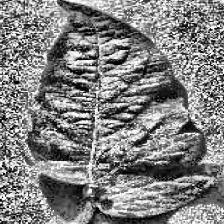spider mites: (23, 0, 224, 215)
